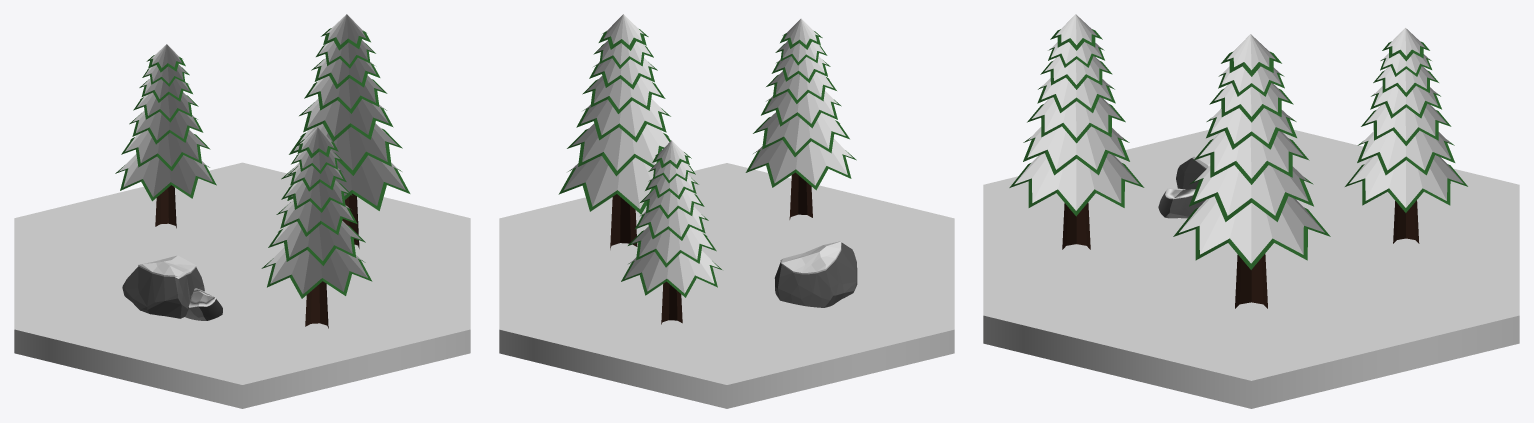
Rendered from Tile_18.FBX.
3 renders of one model, left to right at view 1: azimuth 30°, elevation 25°; view 2: azimuth 150°, elevation 25°; view 3: azimuth 270°, elevation 25°, orthographic. The views are drawn at different scales.
Parts seen in each view (by area): view 1: Ground; view 2: Ground; view 3: Ground.
Boxes of the visible parts, x1=… form: Ground: x1=14, y1=14, x2=470, y2=408; Ground: x1=499, y1=14, x2=954, y2=408; Ground: x1=983, y1=14, x2=1519, y2=408.
Size of the model in its own units: 39.37 by 22.01 by 34.1.
